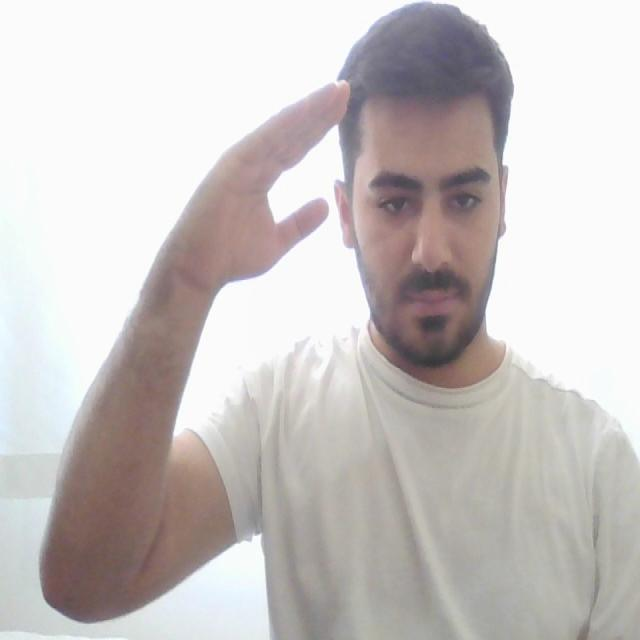Merhaba: (176, 54, 377, 312)
